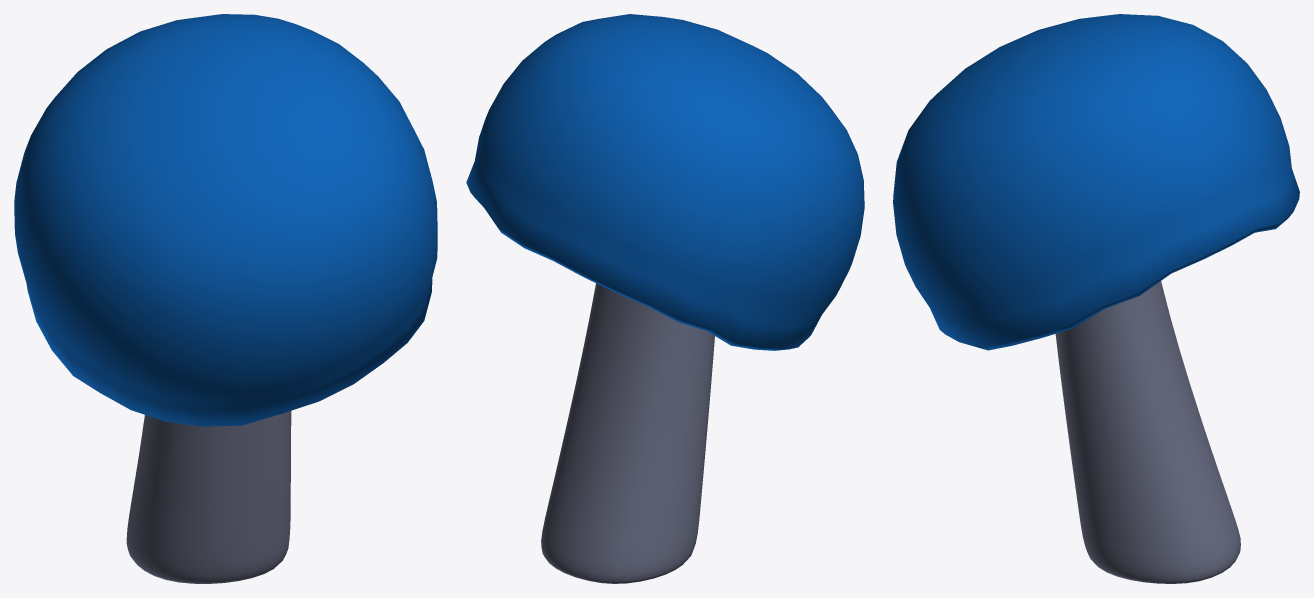
File: Blue Shroom.fbx
The picture shows the model from 3 angles, left to right: view 1: azimuth 30°, elevation 25°; view 2: azimuth 150°, elevation 25°; view 3: azimuth 270°, elevation 25°; orthographic projection. The views are drawn at different scales.
Visible parts, largest first — view 1: Cap Fliegenpilz.001, Cube; view 2: Cap Fliegenpilz.001, Cube; view 3: Cap Fliegenpilz.001, Cube.
Part boxes in pixels (x1,y1,x2,y2): Cap Fliegenpilz.001: (14,14,437,426); Cube: (126,411,291,583); Cap Fliegenpilz.001: (466,14,864,350); Cube: (541,283,714,583); Cap Fliegenpilz.001: (893,14,1299,350); Cube: (1055,281,1240,583).
Size of the model in its own units: 90.87 by 127 by 90.82.
